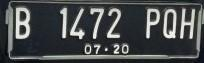1: (58, 6, 69, 40)
2: (106, 4, 124, 40)
4: (70, 5, 87, 40)
7: (86, 5, 105, 40)
B: (14, 3, 32, 40)
H: (178, 6, 196, 40)
P: (143, 6, 162, 40)
Q: (163, 5, 179, 40)
